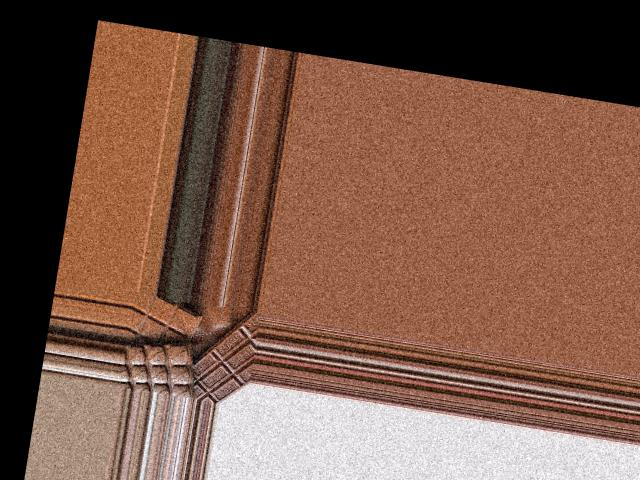chocolate: (123, 297, 202, 364)
